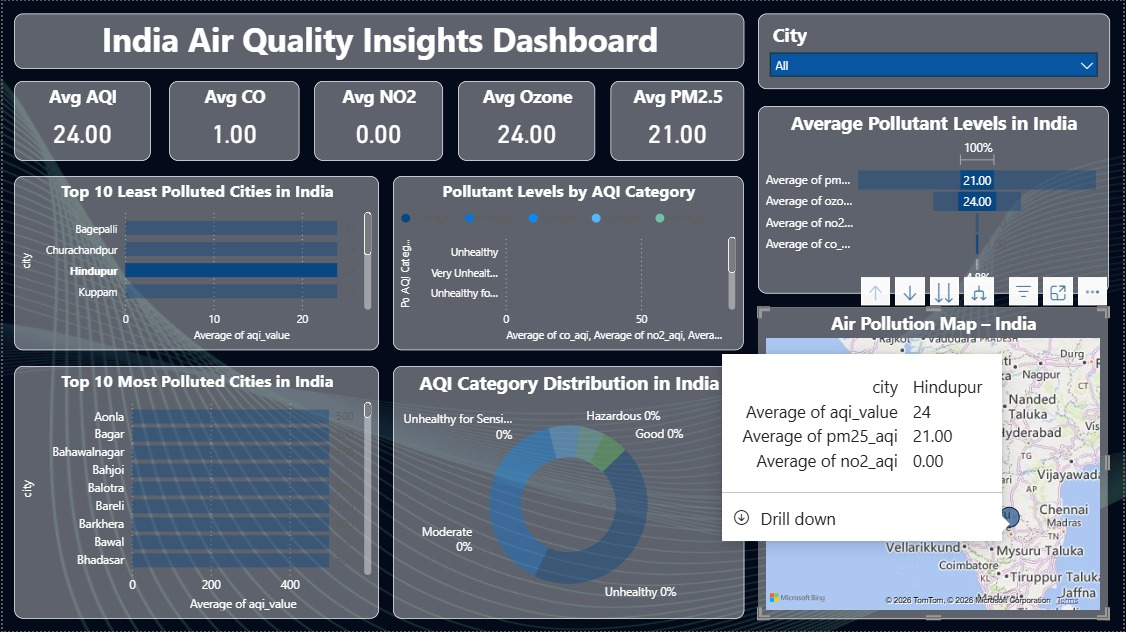

This screenshot's page, from the dashboard's own definition file:
{"tool":"powerbi","page":{"name":"Page 1","canvas":[1280,720],"ordinal":0},"visuals":[{"type":"clusteredBarChart","title":"Top 10 Most Polluted Cities in India","fields":{"Category":["public pollution.city"],"Y":["Avg(public pollution.aqi_value)"]},"box":[12.9,417.1,417.1,288.6],"z":0},{"type":"textbox","title":"India Air Quality Insights Dashboard","box":[12.9,14.3,834.3,62.9],"z":1000},{"type":"donutChart","title":"AQI Category Distribution in India","fields":{"Y":["CountNonNull(public pollution.aqi_category)"],"Category":["public pollution.aqi_category"]},"box":[445.7,417.1,401.4,288.6],"z":2000},{"type":"slicer","fields":{"Values":["public pollution.city"]},"box":[863.1,13.7,402.1,86.4],"z":3000},{"type":"funnel","title":"Average Pollutant Levels in India","fields":{"Y":["Avg(public pollution.pm25_aqi)","Avg(public pollution.ozone_aqi)","Avg(public pollution.no2_aqi)","Avg(public pollution.co_aqi)"]},"box":[863.1,119.4,400.7,214.1],"z":4000},{"type":"card","title":"Avg AQI","fields":{"Values":["Avg(public pollution.aqi_value)"]},"box":[12.9,91.4,155.7,91.4],"z":5000},{"type":"card","title":"Avg NO2","fields":{"Values":["Avg(public pollution.no2_aqi)"]},"box":[355.7,91.4,147.1,91.4],"z":6000},{"type":"card","title":"Avg Ozone","fields":{"Values":["Avg(public pollution.ozone_aqi)"]},"box":[520,91.4,157.1,91.4],"z":7000},{"type":"card","title":"Avg PM2.5","fields":{"Values":["Avg(public pollution.pm25_aqi)"]},"box":[694.3,91.4,152.9,91.4],"z":8000},{"type":"card","title":"Avg CO","fields":{"Values":["Avg(public pollution.co_aqi)"]},"box":[190,91.4,148.6,91.4],"z":9000},{"type":"map","title":"Air Pollution Map – India","fields":{"Category":["public pollution.city","public pollution.country"],"Size":["Avg(public pollution.aqi_value)"]},"box":[862.9,350,400,355.7],"z":10000},{"type":"clusteredBarChart","title":"Top 10 Least Polluted Cities in India","fields":{"Category":["public pollution.city"],"Y":["Avg(public pollution.aqi_value)"]},"box":[12.3,200.3,417.2,199],"z":11000},{"type":"barChart","title":"Pollutant Levels by AQI Category","fields":{"Category":["public pollution.aqi_category"],"Y":["Avg(public pollution.co_aqi)","Avg(public pollution.no2_aqi)","Avg(public pollution.ozone_aqi)","Avg(public pollution.pm25_aqi)","Avg(public pollution.aqi_value)"]},"box":[446,200.3,400.7,199],"z":12000}]}

Visuals, with their boxes in screenshot pixels (x1, y1, x2, y2), scaled from the page's 1280x720 canvas onto the 1126x632 screenshot:
"Top 10 Most Polluted Cities in India" clusteredBarChart: <region>11, 366, 378, 619</region>
"India Air Quality Insights Dashboard" textbox: <region>11, 13, 745, 68</region>
"AQI Category Distribution in India" donutChart: <region>392, 366, 745, 619</region>
slicer - public pollution.city: <region>759, 12, 1113, 88</region>
"Average Pollutant Levels in India" funnel: <region>759, 105, 1112, 293</region>
"Avg AQI" card: <region>11, 80, 148, 160</region>
"Avg NO2" card: <region>313, 80, 442, 160</region>
"Avg Ozone" card: <region>457, 80, 596, 160</region>
"Avg PM2.5" card: <region>611, 80, 745, 160</region>
"Avg CO" card: <region>167, 80, 298, 160</region>
"Air Pollution Map – India" map: <region>759, 307, 1111, 619</region>
"Top 10 Least Polluted Cities in India" clusteredBarChart: <region>11, 176, 378, 350</region>
"Pollutant Levels by AQI Category" barChart: <region>392, 176, 745, 350</region>
